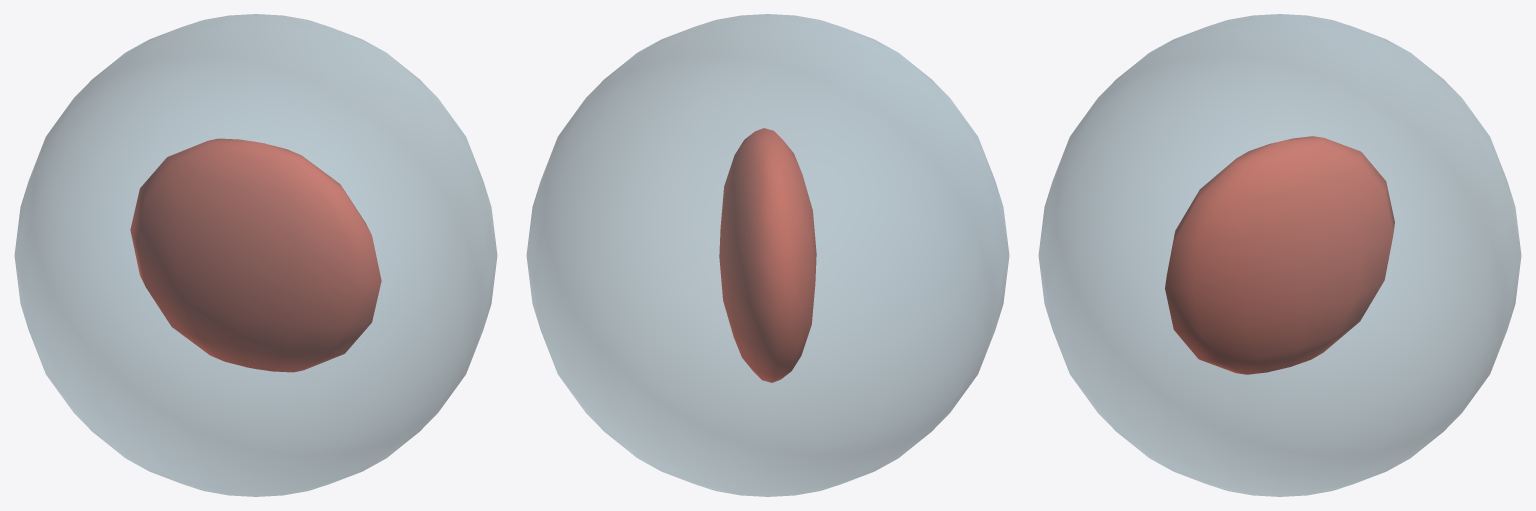
File: den_marble.glb
3 renders of one model, left to right at view 1: azimuth 30°, elevation 25°; view 2: azimuth 150°, elevation 25°; view 3: azimuth 270°, elevation 25°, orthographic.
Parts seen in each view (by area): view 1: den_marble; view 2: den_marble; view 3: den_marble.
Boxes of the visible parts, x1,y1,x2,y2 form: den_marble: (14, 14, 497, 496); den_marble: (526, 14, 1009, 496); den_marble: (1038, 14, 1521, 496).
Bounding box in the file's own units: 2.6 × 2.6 × 2.6.
